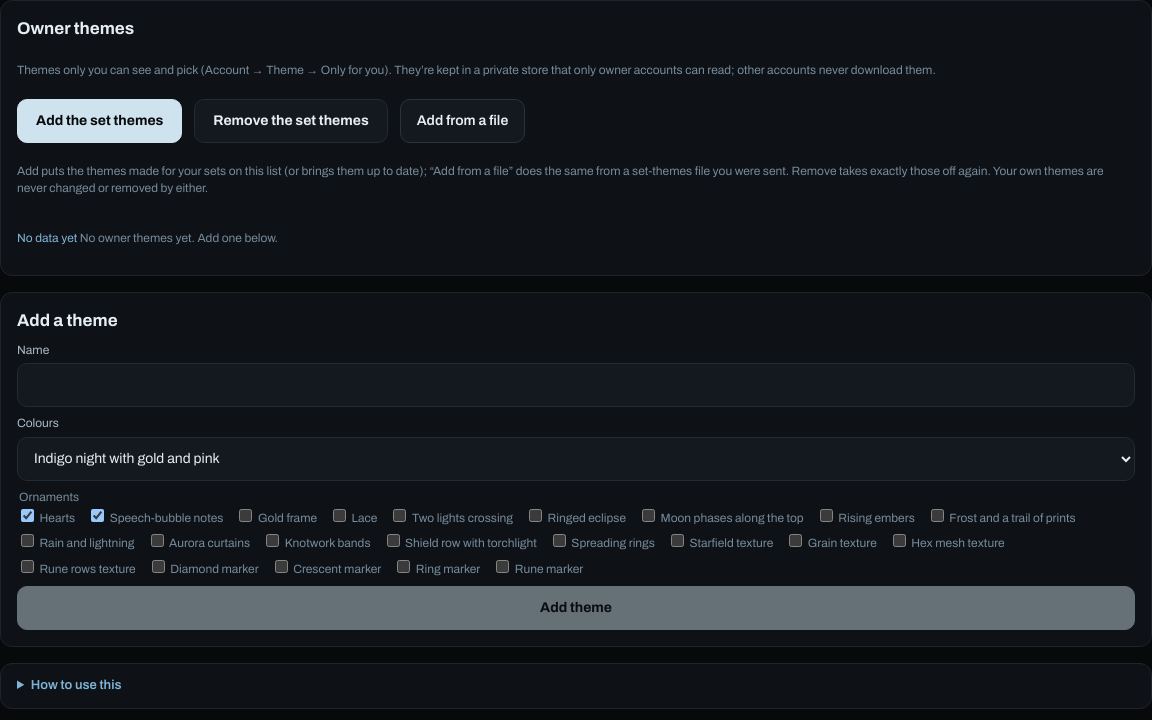
it: owner-only themes in the app (T47) › only retired drafts waiting: nothing is added
The image size is (1152, 720).
Click the button "Add the set themes" at [100, 121], box left=17, top=99, right=182, bottom=143
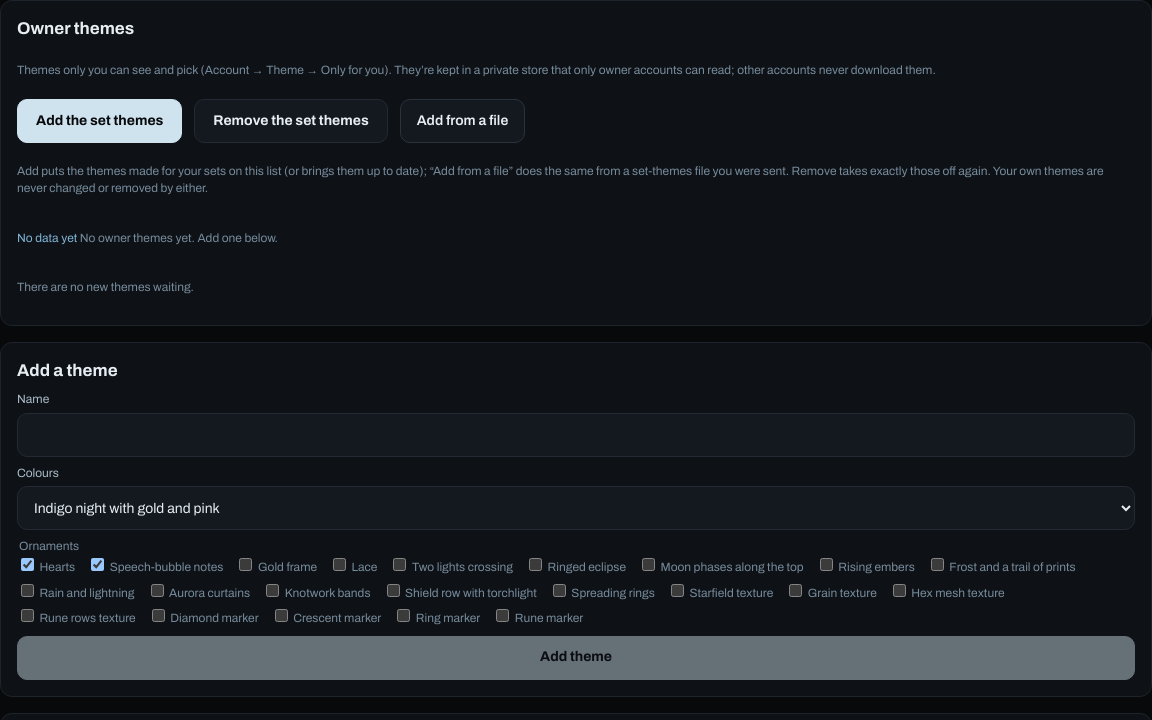
Expected: the text "There are no new themes waiting." is shown, left=17, top=280, right=194, bottom=294
